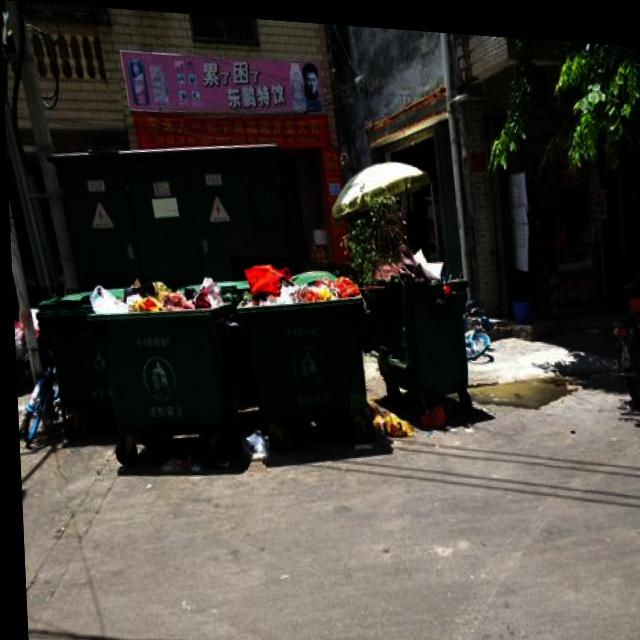garbage: (147, 415, 264, 469), (346, 389, 441, 440)
garbage_bin: (33, 285, 107, 409)
overflow: (82, 271, 231, 437), (228, 252, 366, 424), (365, 236, 470, 384)
